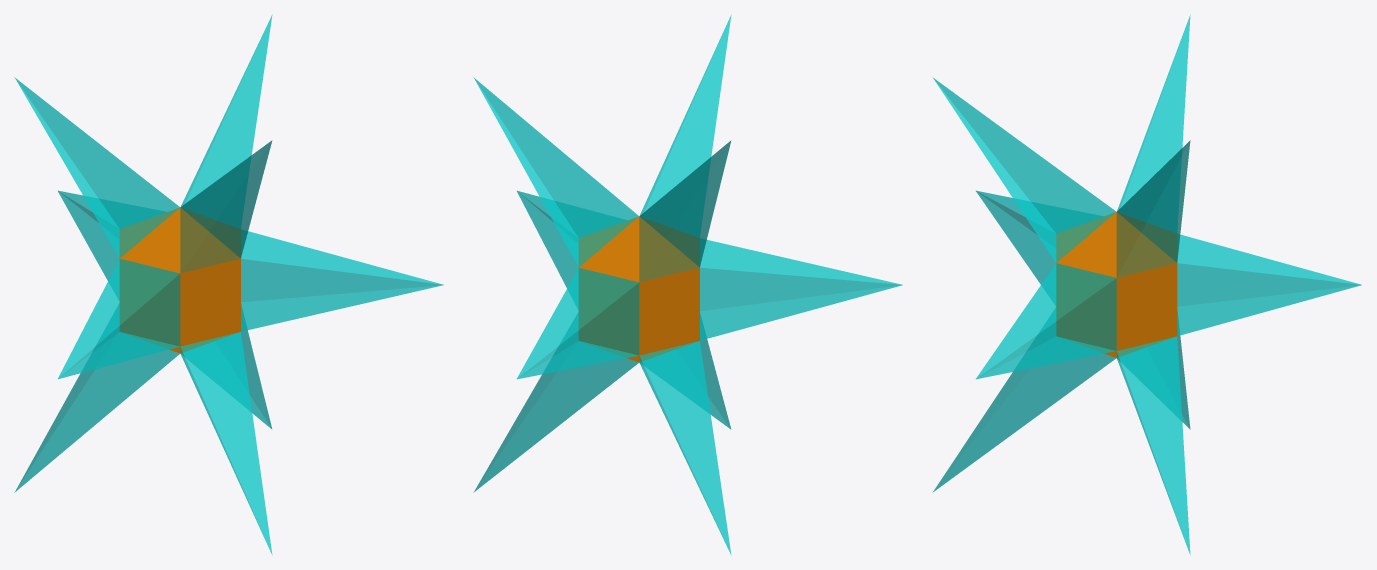
File: Bomb.fbx
3 views of the same model, side by side, from view 1: azimuth 30°, elevation 25°; view 2: azimuth 150°, elevation 25°; view 3: azimuth 270°, elevation 25° (orthographic).
Visible parts, largest first — view 1: pSphere1; view 2: pSphere1; view 3: pSphere1.
Boxes of the visible parts, x1,y1,x2,y2 form: pSphere1: (14, 14, 443, 555); pSphere1: (473, 14, 902, 555); pSphere1: (932, 14, 1361, 555).
Size of the model in its own units: 1.53 by 1.57 by 1.47.
